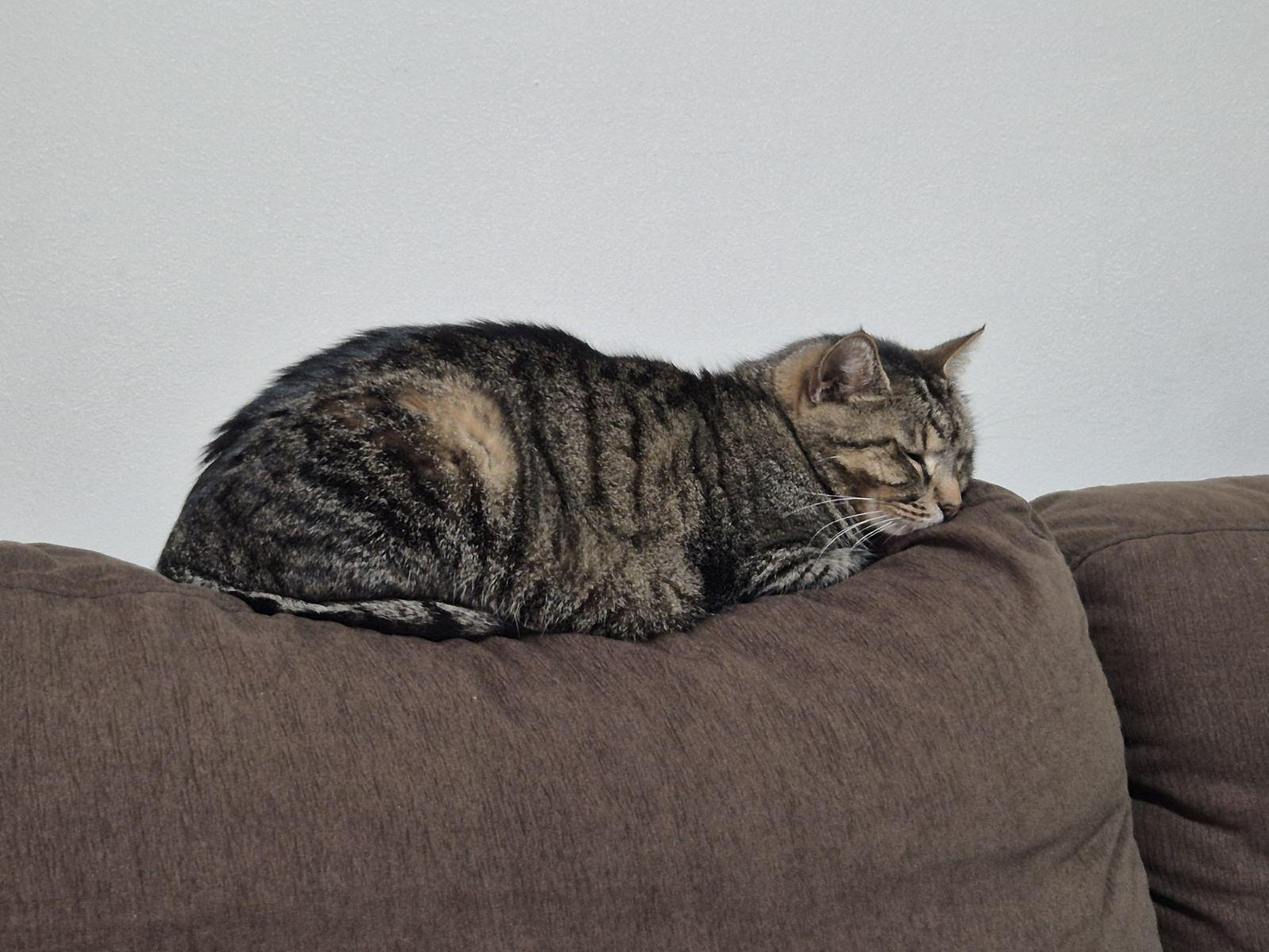macka: (162, 321, 985, 647)
